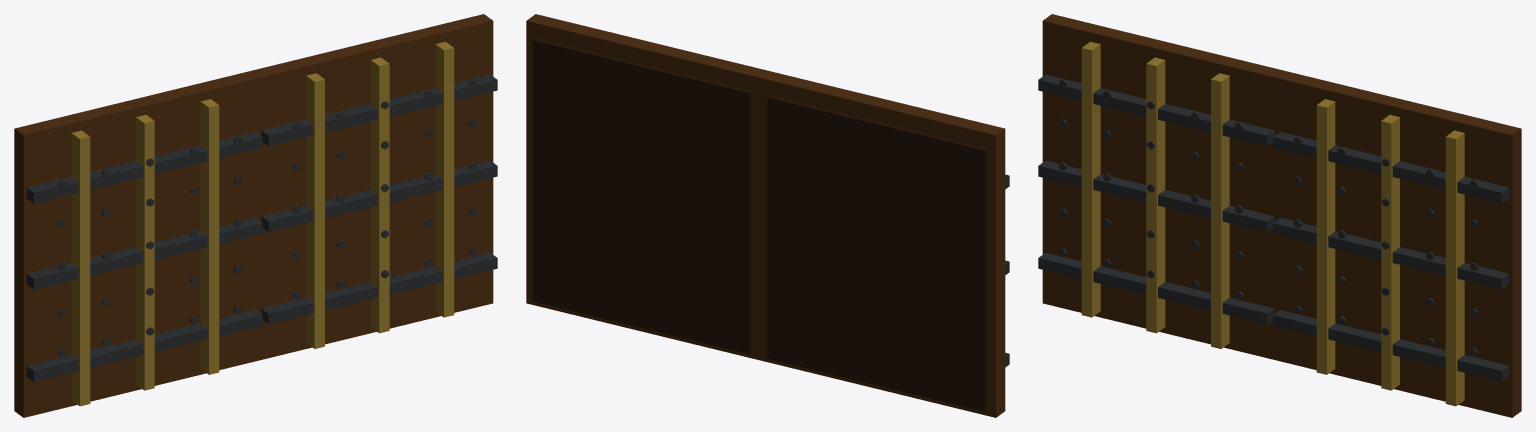
Rendered from castle_gate.glb.
3 renders of one model, left to right at view 1: azimuth 30°, elevation 25°; view 2: azimuth 150°, elevation 25°; view 3: azimuth 330°, elevation 25°, orthographic.
Visible parts, largest first — view 1: left_gate_planks, right_gate_planks, left_vertical_rib_-2.2, right_vertical_rib_2.2, left_vertical_rib_2.2, right_vertical_rib_0, right_vertical_rib_-2.2, left_vertical_rib_0, left_iron_strap_1.6, right_iron_strap_1.6, left_iron_strap_4.6, right_iron_strap_4.6 (+2 smaller); view 2: left_gate_backing, right_gate_backing, left_gate_planks, right_gate_planks; view 3: right_gate_planks, left_gate_planks, left_vertical_rib_-2.2, right_vertical_rib_2.2, right_vertical_rib_-2.2, left_vertical_rib_0, left_vertical_rib_2.2, right_vertical_rib_0, right_iron_strap_1.6, left_iron_strap_1.6, right_iron_strap_4.6, left_iron_strap_4.6 (+2 smaller).
Part boxes in pixels (x1,y1,x2,y2): left_gate_planks: (14, 71, 258, 417); right_gate_planks: (249, 14, 493, 360); left_vertical_rib_-2.2: (71, 130, 90, 406); right_vertical_rib_2.2: (435, 41, 454, 317); left_vertical_rib_2.2: (200, 99, 219, 374); right_vertical_rib_0: (370, 57, 389, 333); right_vertical_rib_-2.2: (306, 73, 324, 348); left_vertical_rib_0: (136, 115, 154, 390); left_iron_strap_1.6: (26, 310, 262, 381); right_iron_strap_1.6: (261, 252, 497, 324); left_iron_strap_4.6: (26, 218, 262, 289); right_iron_strap_4.6: (261, 160, 497, 232); left_gate_backing: (767, 95, 987, 411); right_gate_backing: (532, 38, 752, 354); left_gate_planks: (761, 71, 1005, 417); right_gate_planks: (526, 14, 769, 360); right_gate_planks: (1277, 71, 1521, 417); left_gate_planks: (1042, 14, 1286, 360); left_vertical_rib_-2.2: (1081, 41, 1100, 317); right_vertical_rib_2.2: (1445, 130, 1464, 406); right_vertical_rib_-2.2: (1316, 99, 1335, 374); left_vertical_rib_0: (1146, 57, 1165, 333); left_vertical_rib_2.2: (1211, 73, 1229, 348); right_vertical_rib_0: (1381, 115, 1399, 390); right_iron_strap_1.6: (1273, 310, 1509, 381); left_iron_strap_1.6: (1038, 252, 1274, 324); right_iron_strap_4.6: (1273, 218, 1509, 289); left_iron_strap_4.6: (1038, 160, 1274, 232).
Size of the model in its own units: 16 by 9.2 by 1.27.
